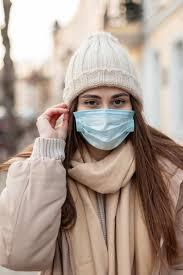cap: (60, 27, 149, 111)
mask: (69, 104, 144, 161)
